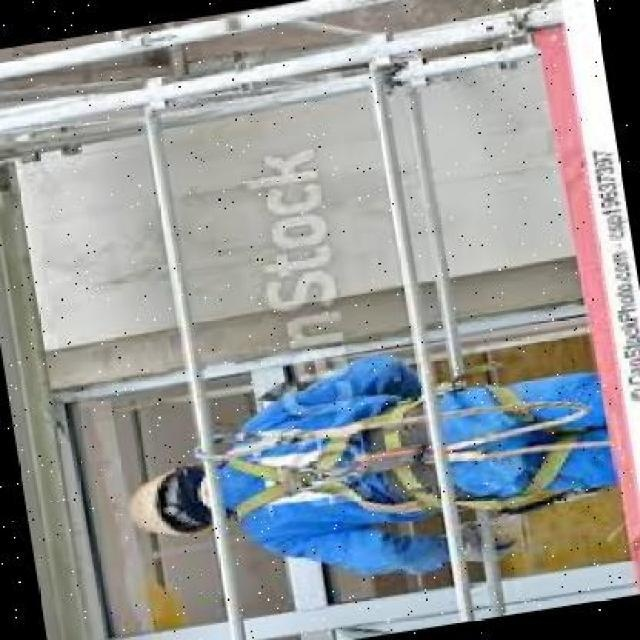Arnes_seguridad: (206, 365, 595, 554)
